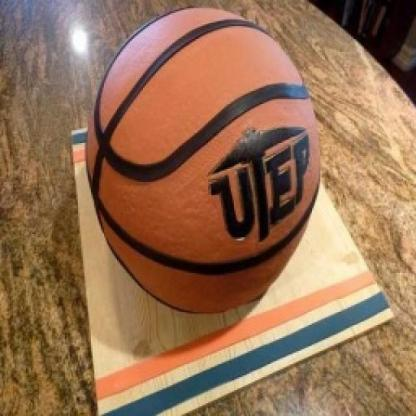basketball: (81, 2, 326, 320)
